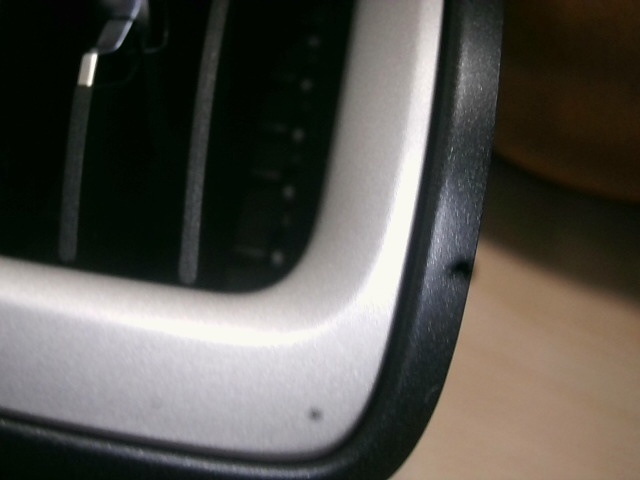NG: (423, 381, 440, 406)
